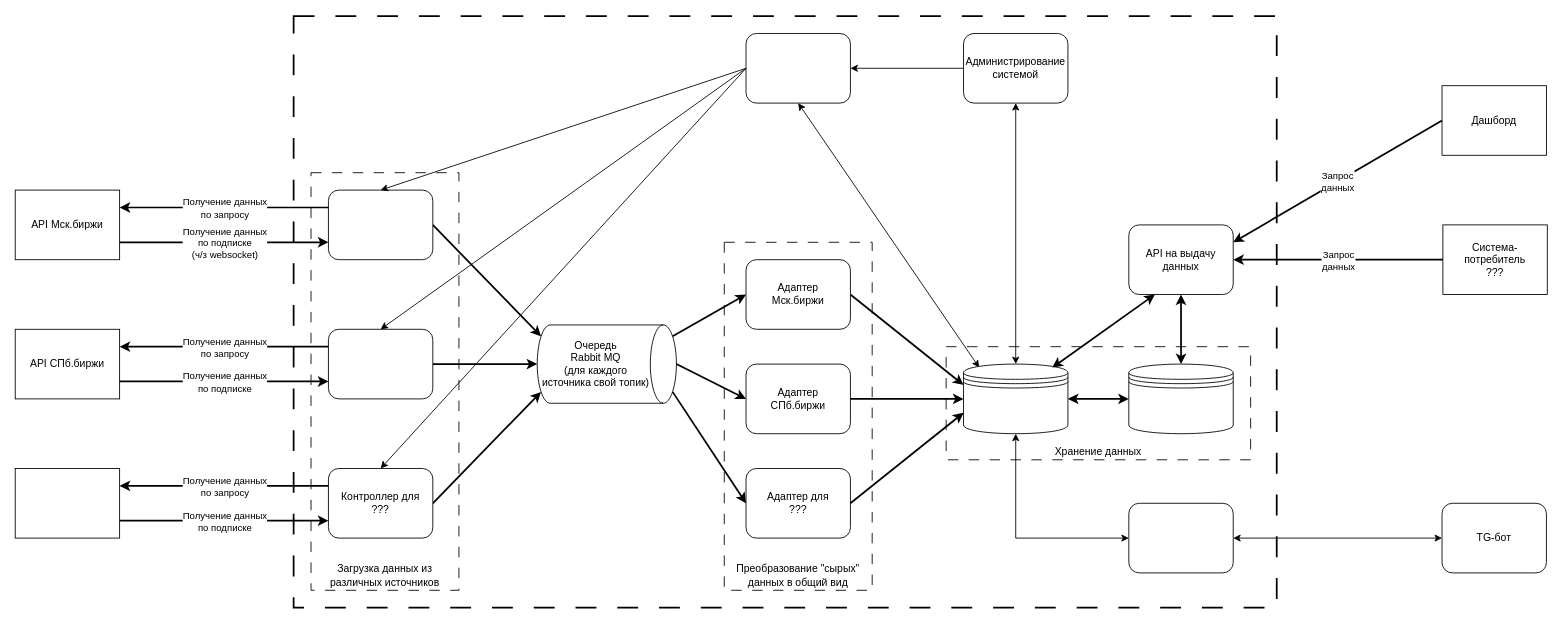
This 1563x623 diagram has some shape labels left out. The shapes that lost their labels are listed below. From the top down, each one's centre as x and y in pixels, then its label:
At [797,68]: "Управление загрузкой данных".
At [380,224]: "Контроллер для Мск.биржи".
At [380,363]: "Контроллер для СПб.биржи".
At [1015,398]: "OLTP PostgreSQL".
At [1180,398]: "OLAP ClickHouse".
At [67,503]: "API ???".
At [1180,537]: "бэк для TG-бота".
